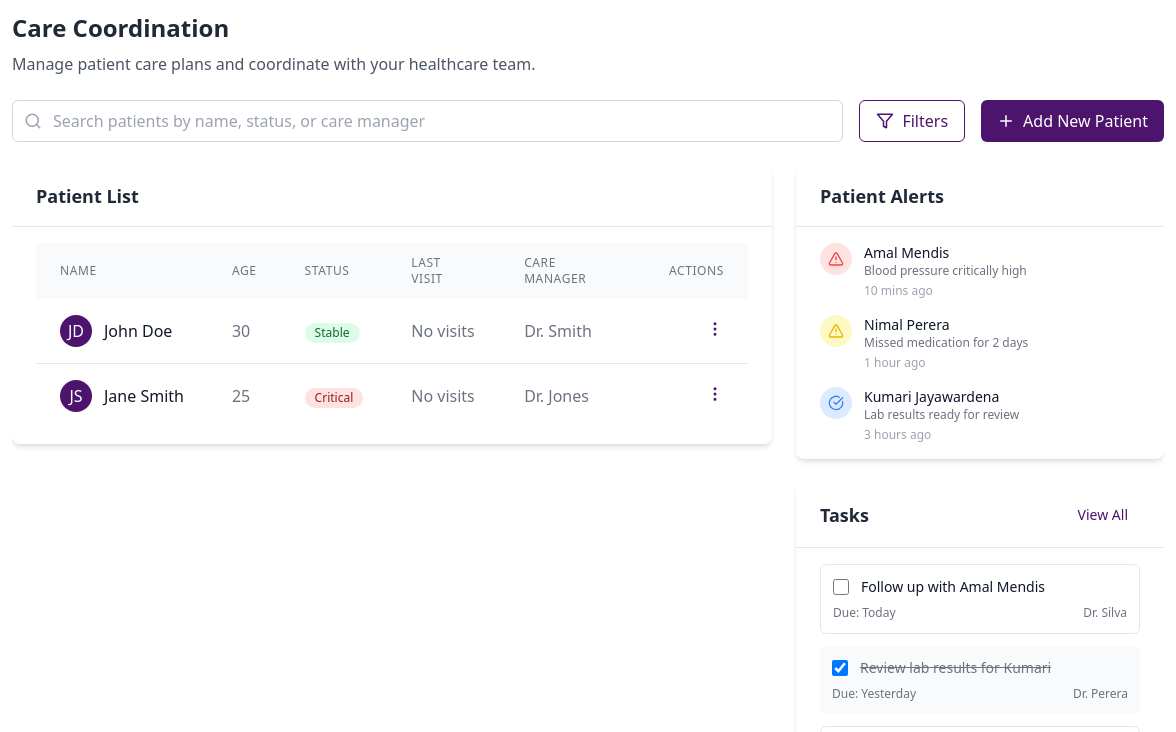
Test case: CareCoordinationPage › should filter patients by search term
Expected: the text "John Doe" is shown, [104, 319, 172, 343]
Expected: the text "Jane Smith" is shown, [104, 384, 184, 408]
Type "John" into the field with placeholder "Search patients by name, status, or care manager" at [428, 121], box [12, 100, 843, 142]
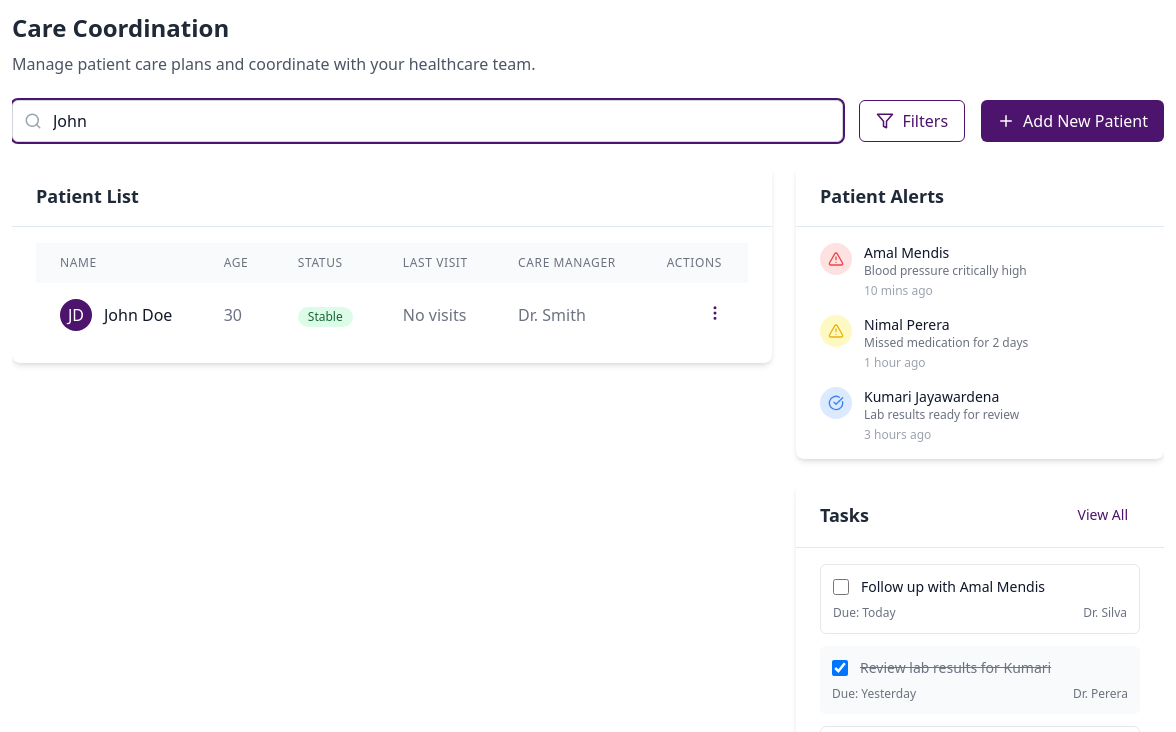
Expected: the text "John Doe" is shown, [104, 303, 172, 327]
Result: the text "Jane Smith" is gone
